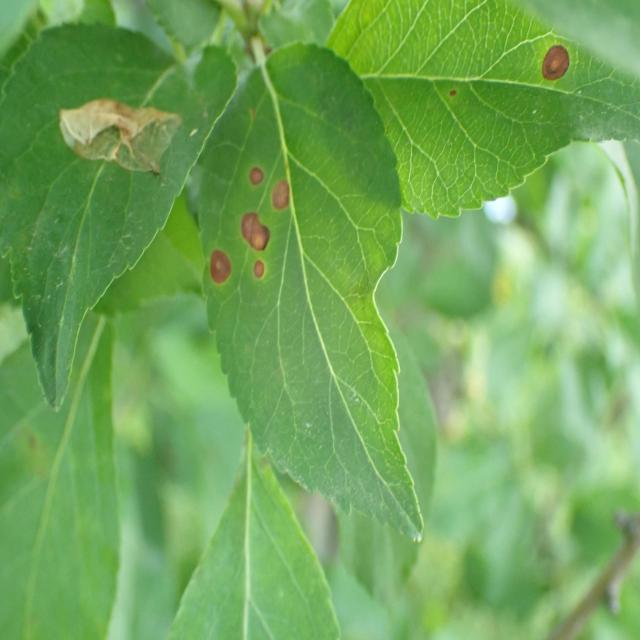Black Rot: (530, 41, 580, 97), (235, 210, 287, 262), (198, 232, 236, 292), (267, 162, 297, 228), (244, 257, 278, 295), (238, 156, 268, 196)
